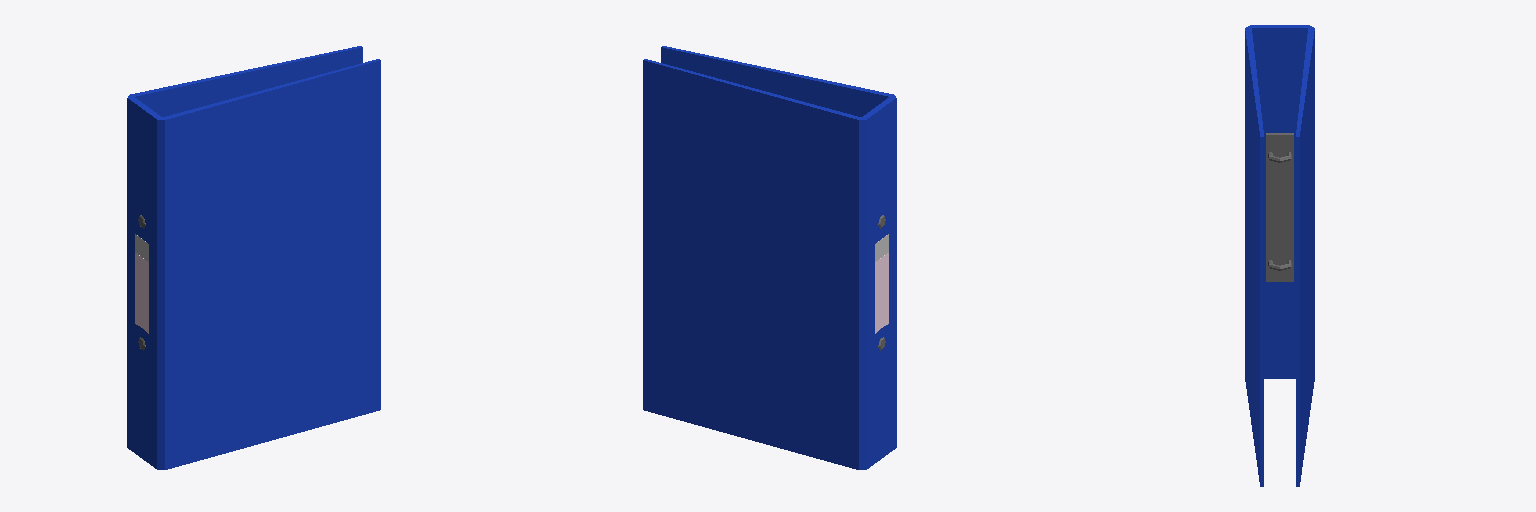
File: Binder.obj
3 views of the same model, side by side, from view 1: azimuth 30°, elevation 25°; view 2: azimuth 150°, elevation 25°; view 3: azimuth 270°, elevation 25° (orthographic).
Visible parts, largest first — view 1: Binder_Cube; view 2: Binder_Cube; view 3: Binder_Cube.
Boxes of the visible parts, x1,y1,x2,y2 form: Binder_Cube: [127, 46, 380, 469]; Binder_Cube: [643, 46, 896, 469]; Binder_Cube: [1245, 25, 1314, 486].
Size of the model in its own units: 0.5428 by 0.7898 by 0.1432.